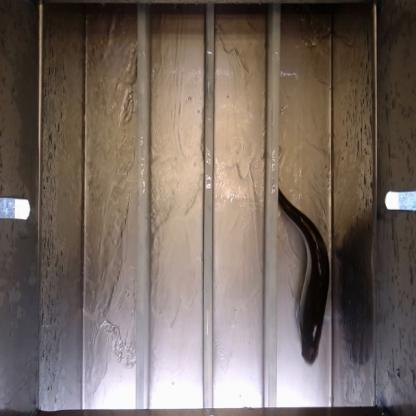pezw: (277, 173, 332, 370)
